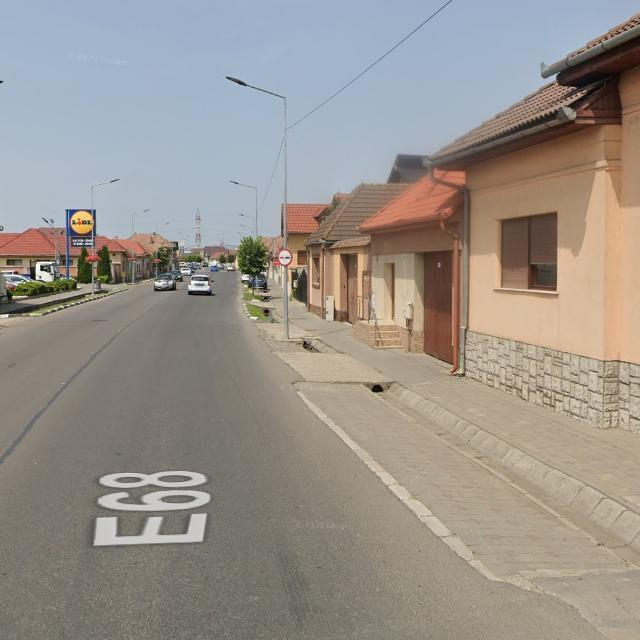forb_overtake: (278, 248, 293, 266)
